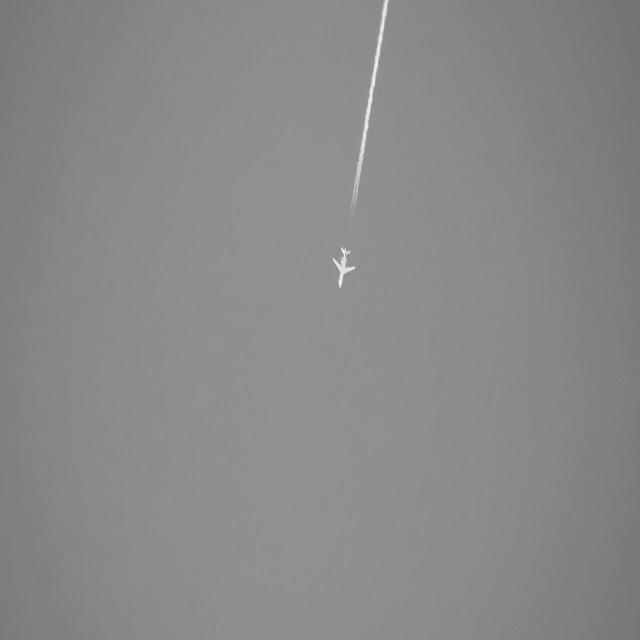aeroplane: (329, 240, 358, 293)
